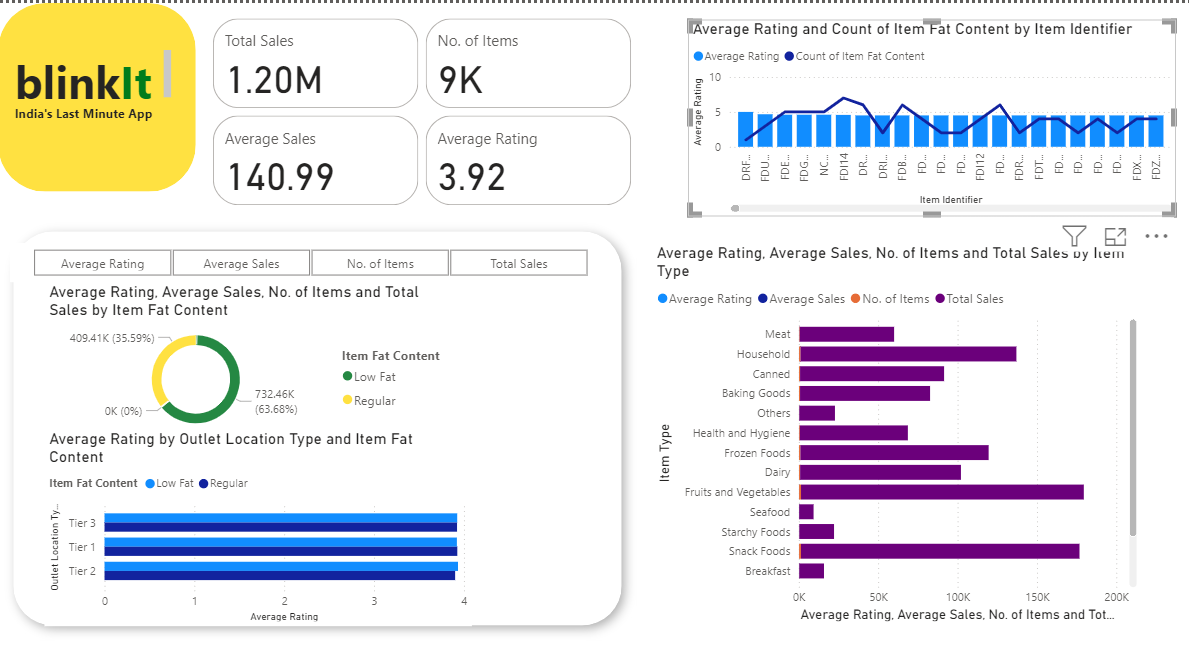

This screenshot's page, from the dashboard's own definition file:
{"tool":"powerbi","page":{"name":"Page 1","canvas":[1280,720],"ordinal":0},"visuals":[{"type":"shape","box":[0,0,212,202.3],"z":0},{"type":"textbox","box":[13.6,45.7,178,67.1],"z":1000},{"type":"textbox","box":[13.6,102.1,212,38.9],"z":2000},{"type":"cardVisual","fields":{"Data":["BlinkIT Grocery Data.Total Sales","BlinkIT Grocery Data.No. of Items","BlinkIT Grocery Data.Average Sales","BlinkIT Grocery Data.Average Rating"]},"box":[225.7,10.7,459.1,211.1],"z":3000},{"type":"shape","box":[0,228.6,684.7,455.2],"z":4000},{"type":"donutChart","fields":{"Y":["BlinkIT Grocery Data.Average Rating","BlinkIT Grocery Data.Average Sales","BlinkIT Grocery Data.No. of Items","BlinkIT Grocery Data.Total Sales"],"Category":["BlinkIT Grocery Data.Item Fat Content"]},"box":[49.6,298.6,444.5,169.2],"z":5000},{"type":"slicer","fields":{"Values":["Parameter.Parameter"]},"box":[13.6,256.8,642.9,41.8],"z":6000},{"type":"tableEx","fields":{"Values":["BlinkIT Grocery Data.Average Rating","BlinkIT Grocery Data.Average Sales","BlinkIT Grocery Data.No. of Items","BlinkIT Grocery Data.Total Sales"]},"box":[701,496,458,188],"z":7000},{"type":"clusteredBarChart","fields":{"Y":["BlinkIT Grocery Data.Average Rating"],"Category":["BlinkIT Grocery Data.Outlet Location Type"],"Series":["BlinkIT Grocery Data.Item Fat Content"]},"box":[49.6,456.2,458.1,211.1],"z":8000},{"type":"barChart","fields":{"Y":["BlinkIT Grocery Data.Average Rating","BlinkIT Grocery Data.Average Sales","BlinkIT Grocery Data.No. of Items","BlinkIT Grocery Data.Total Sales"],"Category":["BlinkIT Grocery Data.Item Type"]},"box":[701.3,256.8,524.3,410.5],"z":9000},{"type":"scatterChart","fields":{"Y":["BlinkIT Grocery Data.Average Sales"],"Category":["BlinkIT Grocery Data.Item Fat Content"],"X":["BlinkIT Grocery Data.Average Rating","BlinkIT Grocery Data.Average Sales","BlinkIT Grocery Data.No. of Items","BlinkIT Grocery Data.Total Sales"]},"box":[739.2,17.5,523.3,211.1],"z":10000}]}

Visuals, with their boxes in screenshot pixels (x1, y1, x2, y2), scaled from the page's 1280x720 canvas onto the 1189x659 screenshot:
shape: (0, 0, 197, 185)
textbox: (13, 42, 178, 103)
textbox: (13, 93, 210, 129)
cardVisual - BlinkIT Grocery Data.Total Sales x BlinkIT Grocery Data.No. of Items: (210, 10, 636, 203)
shape: (0, 209, 636, 626)
donutChart - BlinkIT Grocery Data.Average Rating x BlinkIT Grocery Data.Average Sales: (46, 273, 459, 428)
slicer - Parameter.Parameter: (13, 235, 610, 273)
tableEx - BlinkIT Grocery Data.Average Rating x BlinkIT Grocery Data.Average Sales: (651, 454, 1077, 626)
clusteredBarChart - BlinkIT Grocery Data.Average Rating x BlinkIT Grocery Data.Outlet Location Type: (46, 418, 472, 611)
barChart - BlinkIT Grocery Data.Average Rating x BlinkIT Grocery Data.Average Sales: (651, 235, 1138, 611)
scatterChart - BlinkIT Grocery Data.Average Sales x BlinkIT Grocery Data.Item Fat Content: (687, 16, 1173, 209)
